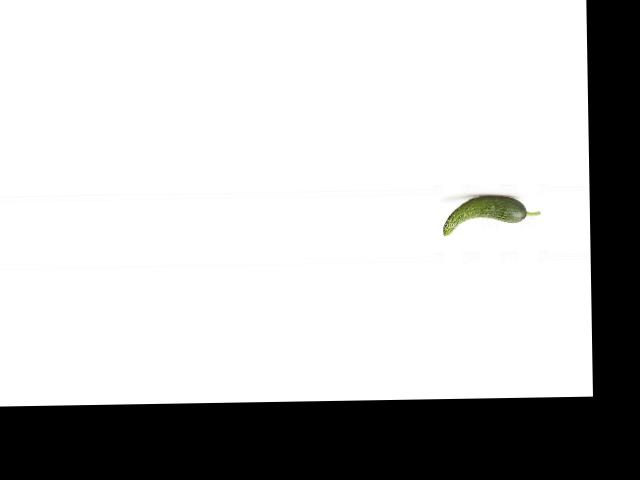cucumber: (442, 194, 541, 235)
